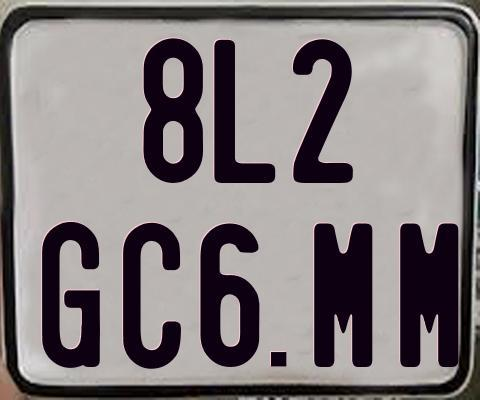2: (290, 39, 353, 184)
6: (198, 223, 262, 370)
8: (142, 38, 208, 188)
C: (123, 221, 184, 373)
G: (41, 221, 99, 373)
L: (212, 37, 278, 186)
M: (400, 223, 465, 381), (312, 223, 374, 373)
